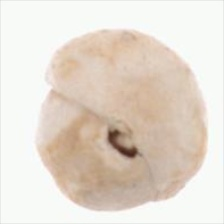L3: (101, 116, 144, 161)
L4: (34, 28, 208, 211)
